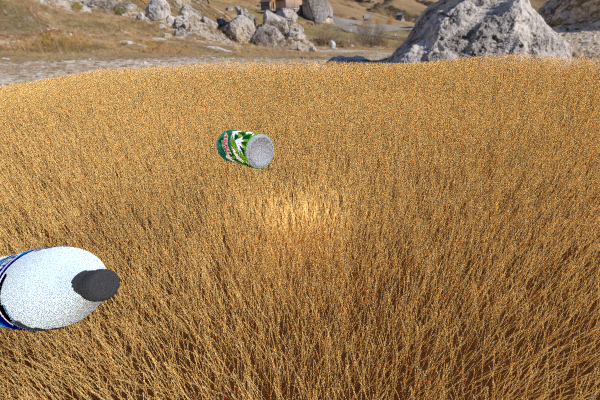bottle: (0, 246, 120, 331)
can: (405, 127, 471, 173), (216, 129, 274, 169)
